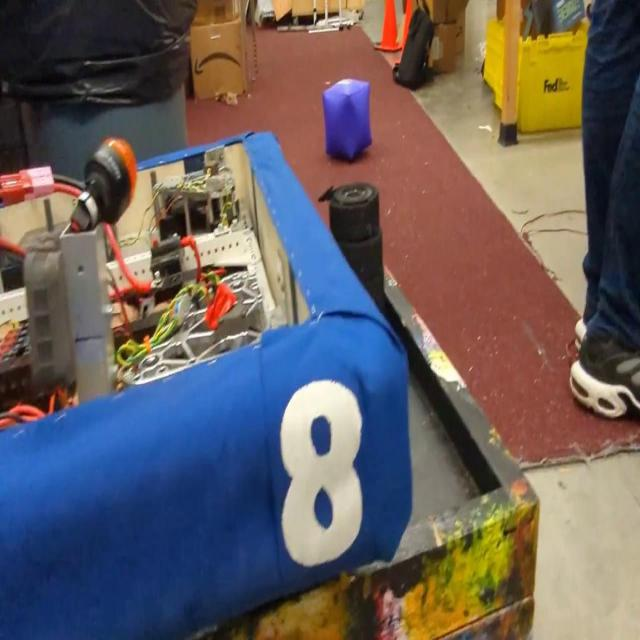frc_cube: (321, 75, 371, 164)
